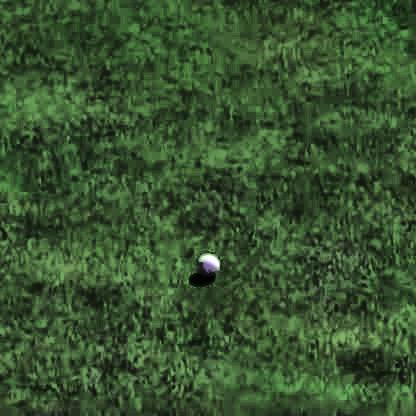golfball: (195, 250, 219, 274)
